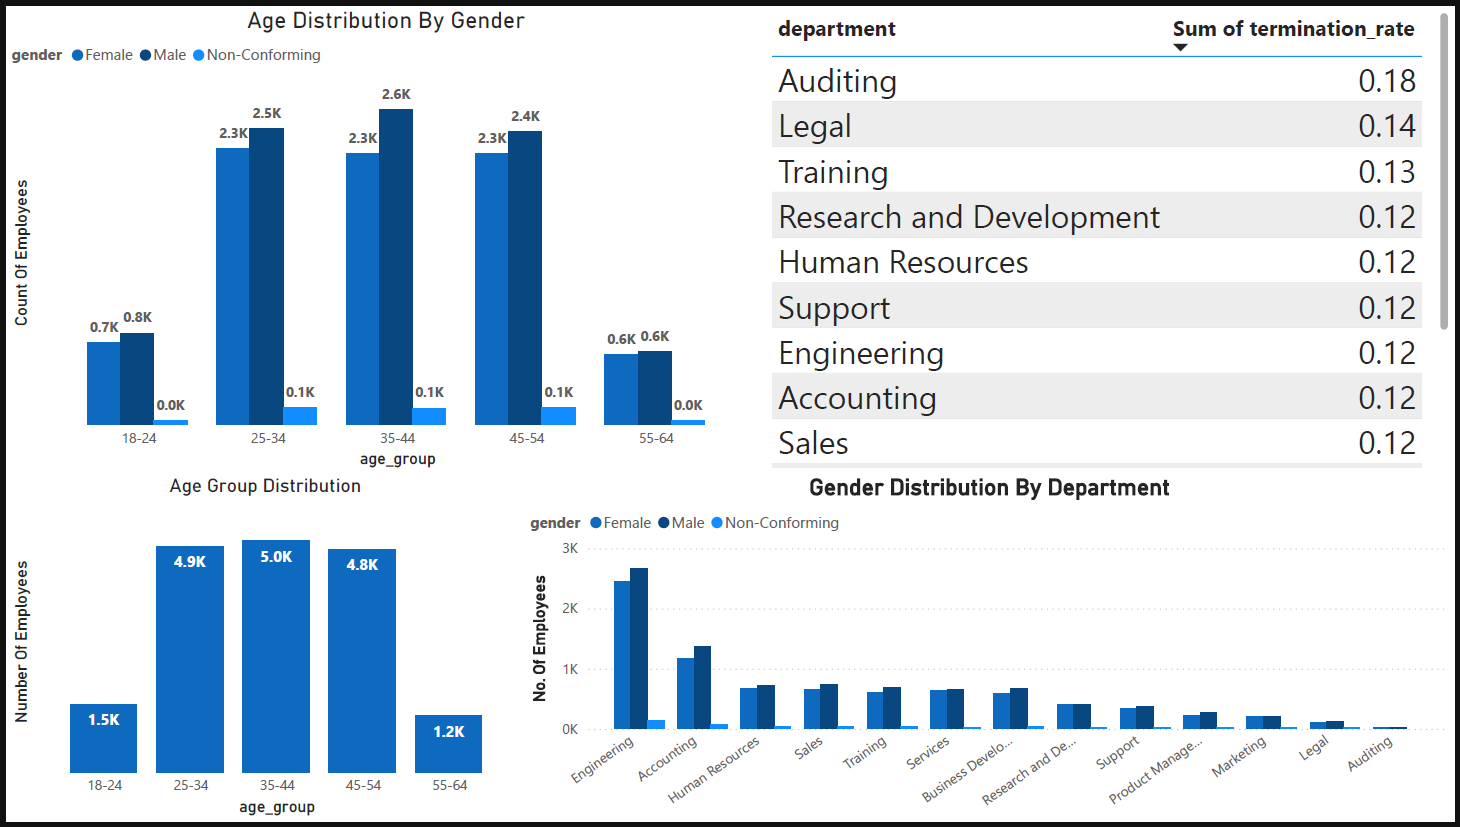

The page's visual inventory and layout, read from the dashboard file:
{"tool":"powerbi","page":{"name":"Page 2","canvas":[1280,720],"ordinal":1},"visuals":[{"type":"columnChart","title":"Age Group Distribution","fields":{"Y":["Sum(age_group.count)"],"Category":["age_group.age_group"]},"box":[0,413,457.9,307],"z":0},{"type":"clusteredColumnChart","title":"Age Distribution By Gender","fields":{"Y":["Sum(age_group_gender.count)"],"Category":["age_group_gender.age_group"],"Series":["age_group_gender.gender"]},"box":[0,0,670.6,413],"z":1000},{"type":"tableEx","fields":{"Values":["turnover_rate.department","Sum(turnover_rate.termination_rate)"]},"box":[670.6,0,609.6,413],"z":2000},{"type":"clusteredColumnChart","title":"Gender Distribution By Department","fields":{"Y":["Sum(gender_department.count)"],"Category":["gender_department.department"],"Series":["gender_department.gender"]},"box":[457.9,413,822.3,307],"z":3000}]}

Visuals, with their boxes in screenshot pixels (x1, y1, x2, y2), scaled from the page's 1280x720 canvas onto the 1460x827 screenshot:
"Age Group Distribution" columnChart: region(0, 474, 522, 826)
"Age Distribution By Gender" clusteredColumnChart: region(0, 0, 765, 474)
tableEx - turnover_rate.department x Sum(turnover_rate.termination_rate): region(765, 0, 1459, 474)
"Gender Distribution By Department" clusteredColumnChart: region(522, 474, 1459, 826)
